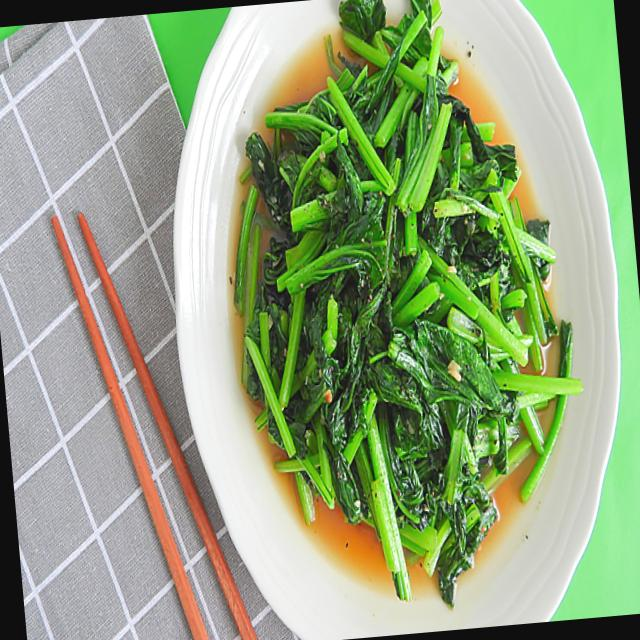rau muong: (236, 0, 581, 607)
